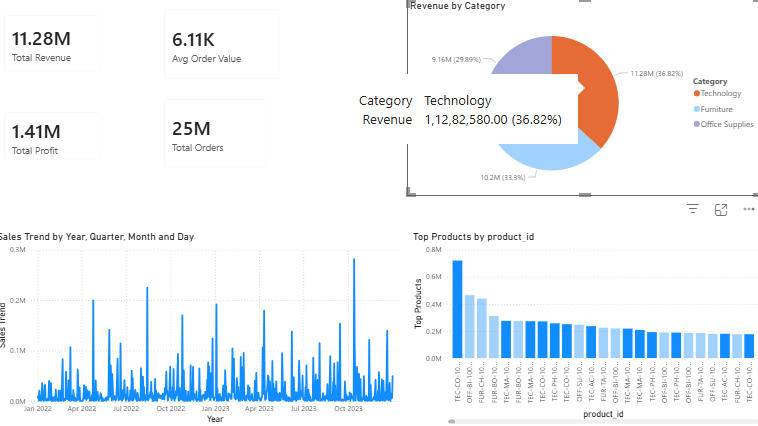

The page's visual inventory and layout, read from the dashboard file:
{"tool":"powerbi","page":{"name":"Page 1","canvas":[1280,720],"ordinal":0},"visuals":[{"type":"cardVisual","fields":{"Data":["Sum(fact_sales.revenue)"]},"box":[0,10,193.3,128.3],"z":0},{"type":"cardVisual","fields":{"Data":["Sum(fact_sales.profit)"]},"box":[0,171.7,193.3,113.3],"z":1000},{"type":"lineChart","fields":{"Y":["Sum(fact_sales.revenue)"],"Category":["dim_date.order_date.Variation.Date Hierarchy.Year","dim_date.order_date.Variation.Date Hierarchy.Quarter","dim_date.order_date.Variation.Date Hierarchy.Month","dim_date.order_date.Variation.Date Hierarchy.Day"]},"box":[0,385,693.3,328.3],"z":2000},{"type":"clusteredColumnChart","fields":{"Category":["dim_product.product_id"],"Y":["Sum(fact_sales.revenue)"]},"box":[693.3,385,586.7,328.3],"z":3000},{"type":"pieChart","fields":{"Category":["dim_product.category"],"Y":["Sum(fact_sales.revenue)"]},"box":[688.3,0,591.7,328.3],"z":4000},{"type":"cardVisual","fields":{"Data":["Sum(fact_sales.order_id)"]},"box":[266.7,150,206.7,148.3],"z":5000},{"type":"cardVisual","fields":{"Data":["dim_date.Average Order Value"]},"box":[266.7,0,226.7,150],"z":6000}]}

Visuals, with their boxes in screenshot pixels (x1, y1, x2, y2), scaled from the page's 1280x720 canvas onto the 758x426 screenshot:
cardVisual - Sum(fact_sales.revenue): x1=0, y1=6, x2=114, y2=82
cardVisual - Sum(fact_sales.profit): x1=0, y1=102, x2=114, y2=169
lineChart - Sum(fact_sales.revenue) x dim_date.order_date.Variation.Date Hierarchy.Year: x1=0, y1=228, x2=411, y2=422
clusteredColumnChart - dim_product.product_id x Sum(fact_sales.revenue): x1=411, y1=228, x2=757, y2=422
pieChart - dim_product.category x Sum(fact_sales.revenue): x1=408, y1=0, x2=757, y2=194
cardVisual - Sum(fact_sales.order_id): x1=158, y1=89, x2=280, y2=176
cardVisual - dim_date.Average Order Value: x1=158, y1=0, x2=292, y2=89
